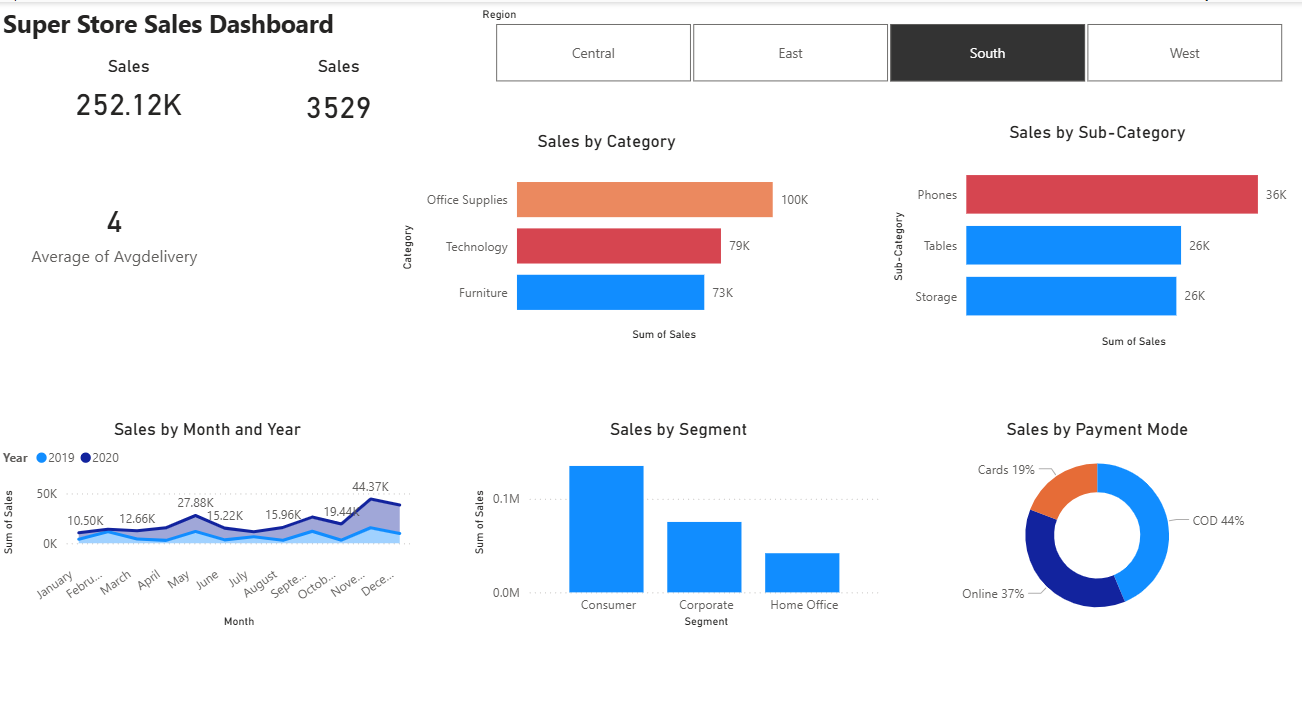

The page's visual inventory and layout, read from the dashboard file:
{"tool":"powerbi","page":{"name":"Page 1","canvas":[1280,720],"ordinal":0},"visuals":[{"type":"clusteredBarChart","title":"Sales by Category","fields":{"Category":["SuperStore_Sales_Dataset.Category"],"Y":["Sum(SuperStore_Sales_Dataset.Sales)"]},"box":[390.1,126,410.9,210.3],"z":0},{"type":"barChart","title":" Sales by Sub-Category","fields":{"Category":["SuperStore_Sales_Dataset.Sub-Category"],"Y":["Sum(SuperStore_Sales_Dataset.Sales)"]},"box":[870.7,117.4,409.6,226.2],"z":1000},{"type":"slicer","fields":{"Values":["SuperStore_Sales_Dataset.Region"]},"box":[461,0,819.3,84.4],"z":2000},{"type":"stackedAreaChart","title":"Sales by Month and Year","fields":{"Category":["SuperStore_Sales_Dataset.Order Date.Variation.Date Hierarchy.Month","SuperStore_Sales_Dataset.Order Date.Variation.Date Hierarchy.Day"],"Y":["Sum(SuperStore_Sales_Dataset.Sales)"],"Series":["SuperStore_Sales_Dataset.Order Date.Variation.Date Hierarchy.Year"]},"box":[0,407.2,409.6,210.3],"z":3000},{"type":"columnChart","title":" Sales by Segment","fields":{"Category":["SuperStore_Sales_Dataset.Segment"],"Y":["Sum(SuperStore_Sales_Dataset.Sales)"]},"box":[461,407.2,409.6,210.3],"z":4000},{"type":"donutChart","title":" Sales by Payment Mode","fields":{"Category":["SuperStore_Sales_Dataset.Payment Mode"],"Y":["Sum(SuperStore_Sales_Dataset.Sales)"]},"box":[870.7,407.2,409.6,210.3],"z":5000},{"type":"textbox","box":[0,0,460.9,53.1],"z":6000},{"type":"card","title":"Sales","fields":{"Values":["Sum(SuperStore_Sales_Dataset.Sales)"]},"box":[0,53.1,255.8,72.4],"z":7000},{"type":"card","title":"Sales","fields":{"Values":["Sum(SuperStore_Sales_Dataset.Quantity)"]},"box":[205.1,53.1,255.8,78.4],"z":8000},{"type":"card","fields":{"Values":["Avg(SuperStore_Sales_Dataset.Avgdelivery)"]},"box":[0,125.5,228,195.4],"z":9000}]}

Visuals, with their boxes on the page's 1280x720 design canvas (x1, y1, x2, y2). These are canvas units, not pixel positions in the 1302x704 screenshot, which may show the page scaled, cropped or inside an application window:
"Sales by Category" clusteredBarChart: box=[390, 126, 801, 336]
" Sales by Sub-Category" barChart: box=[871, 117, 1280, 344]
slicer - SuperStore_Sales_Dataset.Region: box=[461, 0, 1280, 84]
"Sales by Month and Year" stackedAreaChart: box=[0, 407, 410, 618]
" Sales by Segment" columnChart: box=[461, 407, 871, 618]
" Sales by Payment Mode" donutChart: box=[871, 407, 1280, 618]
textbox: box=[0, 0, 461, 53]
"Sales" card: box=[0, 53, 256, 126]
"Sales" card: box=[205, 53, 461, 132]
card - Avg(SuperStore_Sales_Dataset.Avgdelivery): box=[0, 126, 228, 321]
